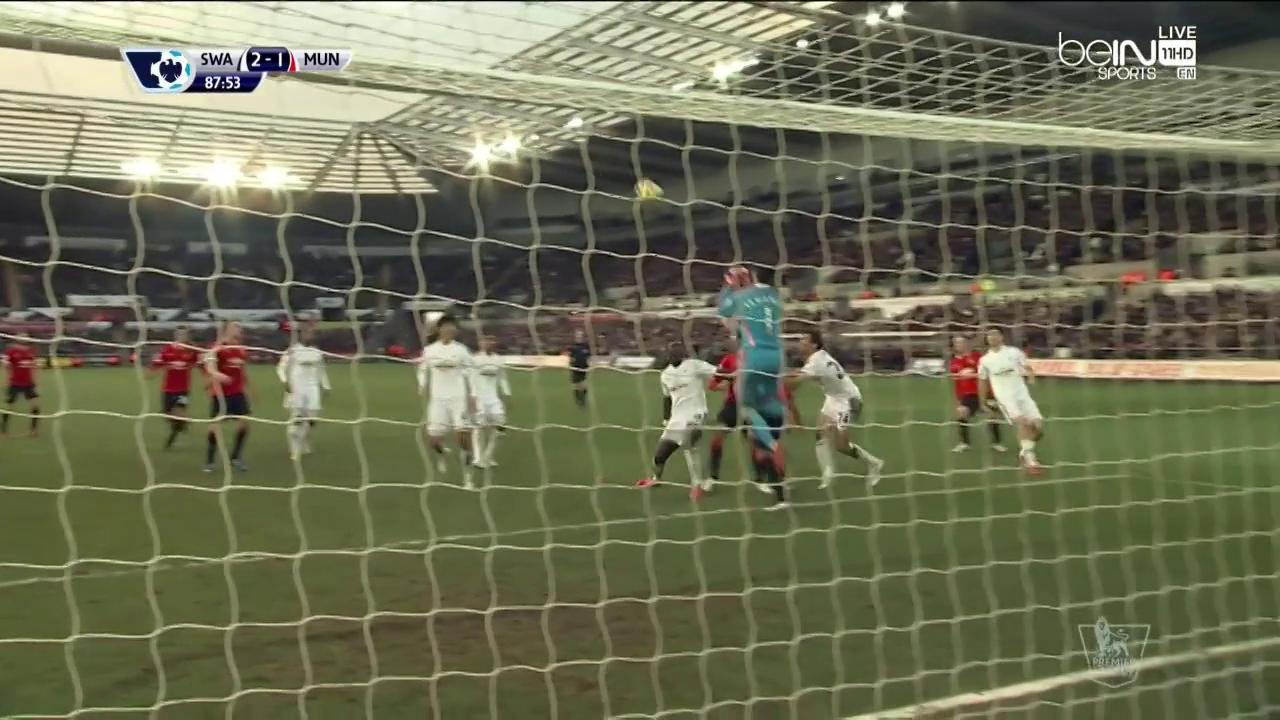football: (636, 177, 663, 200)
